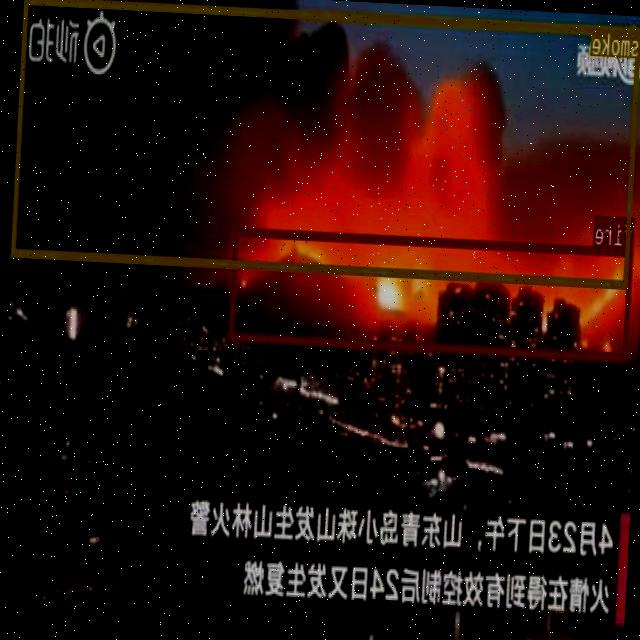fire: (230, 227, 634, 361)
smoke: (11, 0, 640, 287)
